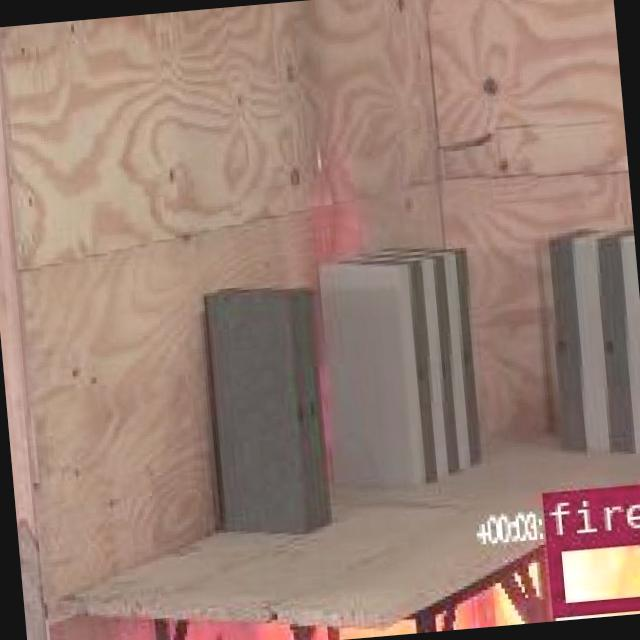fire: (543, 527, 640, 612)
